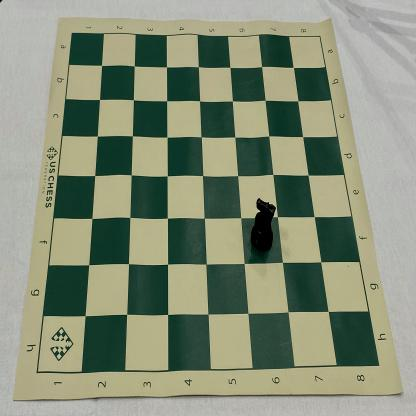black-knight: (251, 198, 276, 254)
